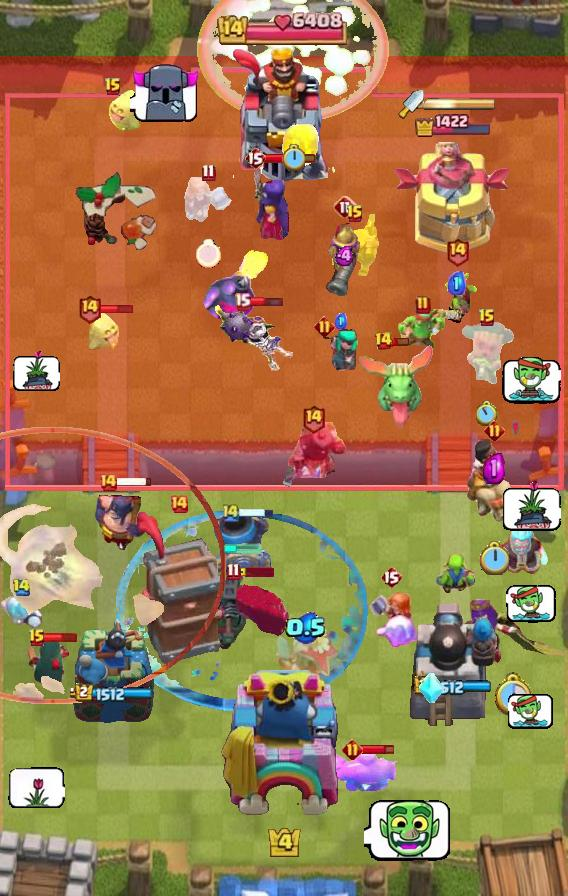bandit: (26, 635, 72, 689)
bar: (264, 152, 317, 164), (360, 743, 395, 756), (249, 295, 284, 308), (100, 303, 135, 315), (116, 476, 153, 487), (239, 507, 274, 518), (44, 632, 78, 643), (238, 567, 274, 577), (390, 336, 410, 347)
bar-level: (301, 403, 326, 434), (77, 293, 102, 324), (445, 236, 470, 267), (333, 195, 357, 219), (380, 565, 402, 589), (244, 146, 266, 170), (342, 739, 363, 760), (484, 420, 505, 441), (314, 316, 335, 337), (221, 502, 241, 523), (169, 494, 189, 514), (98, 472, 118, 492), (374, 331, 393, 351), (12, 578, 31, 597), (28, 628, 46, 648), (478, 308, 496, 328), (346, 204, 364, 224), (104, 77, 122, 97), (234, 292, 251, 311), (415, 295, 431, 315), (226, 562, 241, 581), (201, 163, 216, 182)
barbarian-evolution: (329, 214, 381, 276)
bomb: (202, 248, 274, 322)
bomber-evolution: (211, 303, 295, 373)
cannoneer-tower: (408, 599, 498, 731)
clock: (492, 672, 533, 717), (479, 541, 509, 575), (196, 239, 221, 268), (282, 144, 305, 171), (476, 401, 498, 426)
dagger-duchess-tower: (394, 142, 512, 256)
dagger-duchess-tower-bar: (424, 97, 496, 111)
dart-goblin: (458, 322, 516, 388)
elixir: (285, 612, 327, 644), (483, 453, 505, 484), (448, 271, 466, 295), (335, 246, 356, 266), (335, 313, 347, 329)
elixir-golem-mid: (329, 747, 403, 799)
emote: (364, 797, 453, 864), (130, 62, 202, 126), (501, 479, 561, 532), (502, 357, 561, 404), (8, 767, 65, 808), (12, 349, 60, 392), (506, 583, 556, 623), (508, 693, 554, 731)
executioner: (93, 481, 149, 553)
goblin: (434, 547, 478, 602), (435, 271, 479, 326)
heal-spirit: (87, 310, 123, 352), (107, 87, 141, 131)
ice-spirit: (0, 594, 46, 629)
ice-spirit-evolution: (374, 615, 424, 653)
ice-spirit-evolution-symbol: (419, 673, 445, 705)
ice-wizard: (489, 515, 551, 579)
king-tower: (219, 670, 349, 826), (230, 45, 338, 181)
king-tower-bar: (217, 11, 351, 45)
mortar: (213, 510, 273, 574)
musketeer: (324, 212, 366, 300)
queen-tower: (70, 616, 158, 731)
ram-rider: (466, 438, 522, 526)
rascal-girl: (321, 328, 361, 378)
royal-ghost: (272, 620, 340, 694)
spear-goblin: (398, 306, 448, 350)
tower-bar: (414, 113, 493, 138), (75, 683, 154, 703), (414, 676, 493, 696)
valkyrie: (181, 177, 235, 227), (368, 592, 414, 642)
witch: (247, 154, 293, 242)
